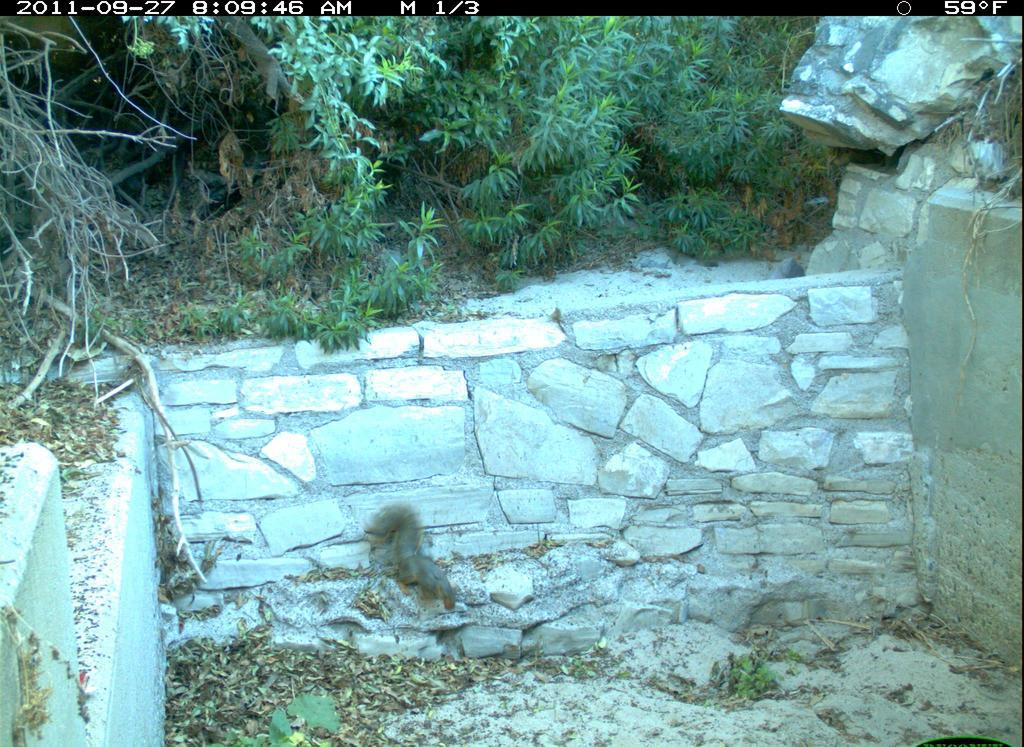squirrel: (363, 488, 481, 649)
